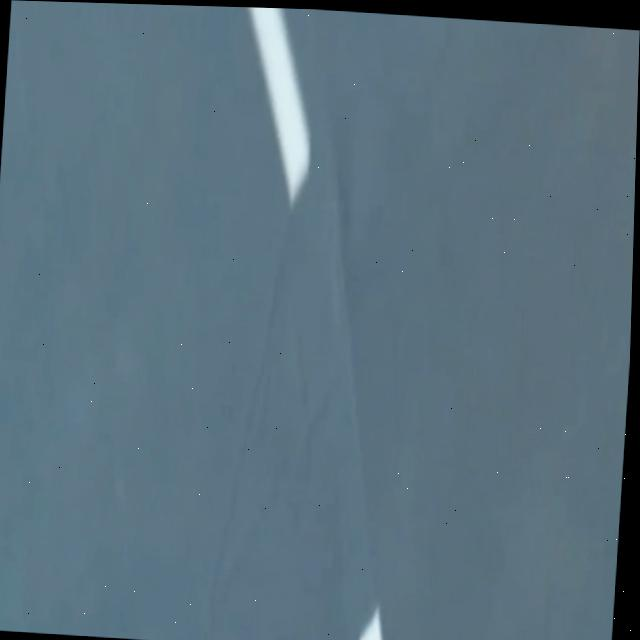center: (247, 7, 309, 205), (359, 606, 381, 640)
